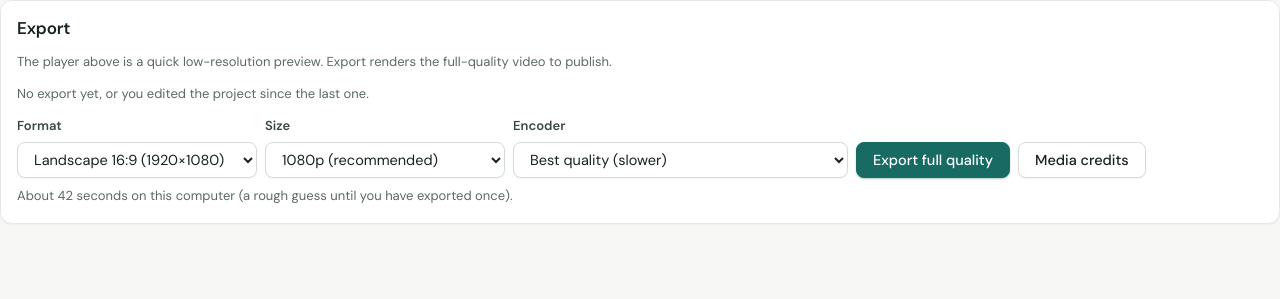
Test case: ExportPanel › shows the server's error and allows another attempt
The width and height of the screenshot is (1280, 299).
Click the button "Export full quality" at (933, 160), box [856,142,1010,178]
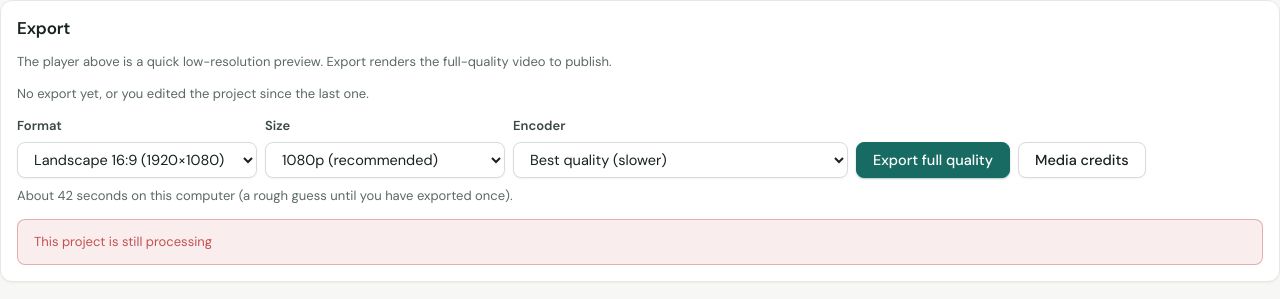
expect the message shows "still processing": met, box [34,232,212,250]
